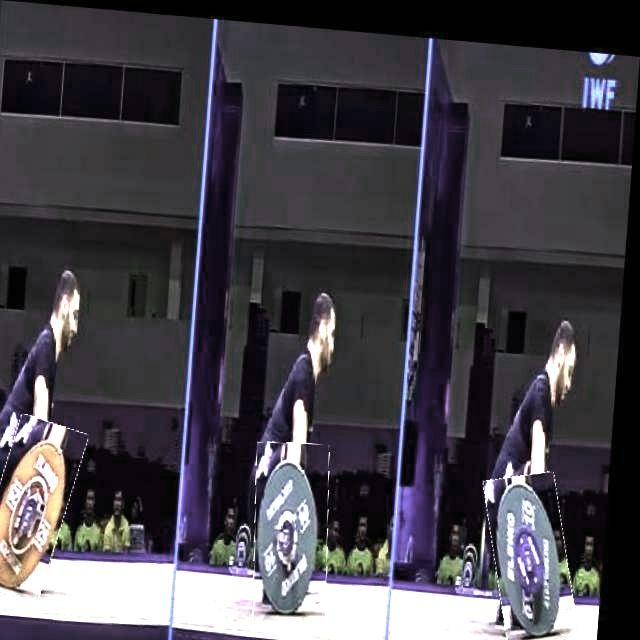barbell: (490, 460, 589, 639), (257, 435, 344, 624), (1, 415, 88, 602)
